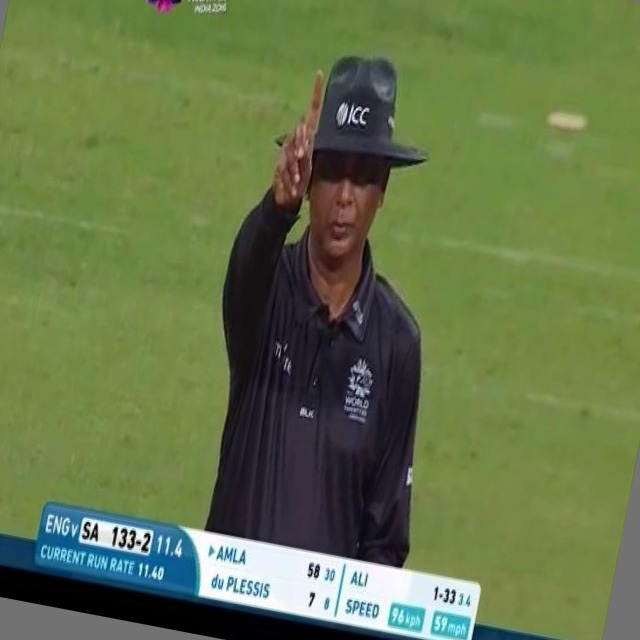Out: (173, 29, 504, 570)
